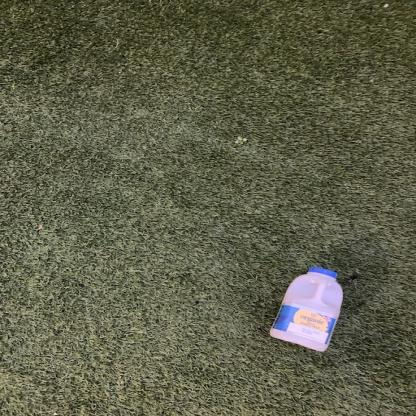trash: (267, 265, 347, 354)
